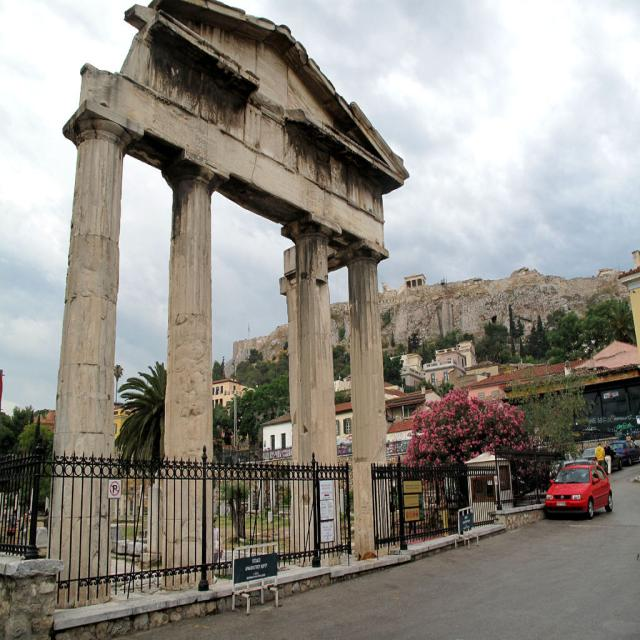car: (543, 462, 610, 516)
